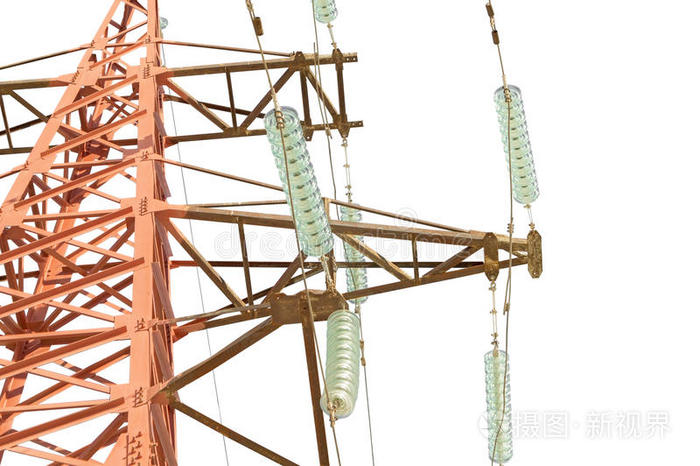insulator: (264, 105, 333, 257), (495, 83, 542, 203), (323, 309, 362, 417), (483, 348, 515, 462), (341, 198, 370, 304)
